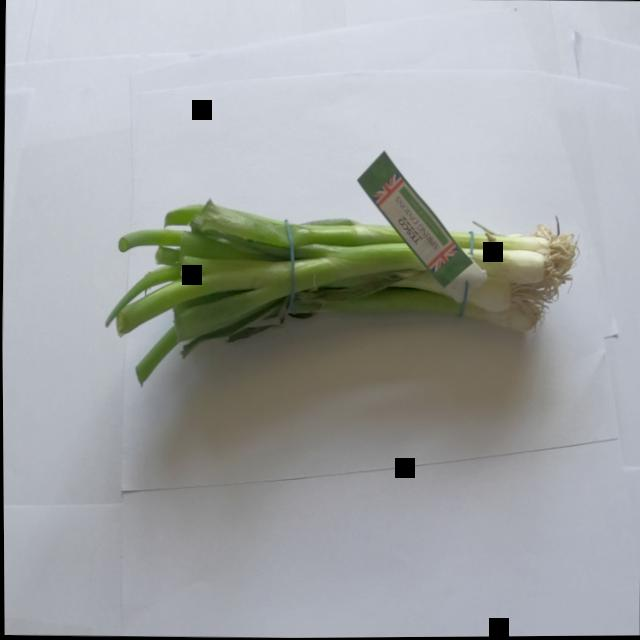Springonion: (88, 123, 592, 408)
